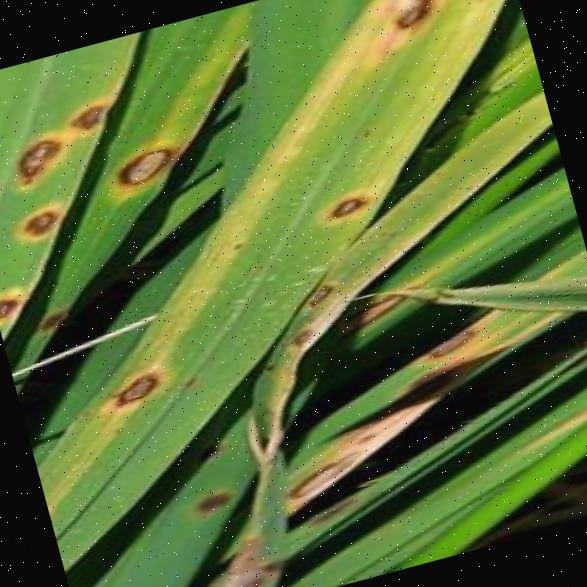Brown_Spot: (78, 120, 194, 222), (321, 0, 488, 61), (268, 436, 376, 507), (0, 113, 83, 202), (296, 166, 391, 240), (89, 350, 179, 423), (0, 181, 79, 263), (44, 77, 127, 150), (408, 311, 490, 375), (166, 472, 248, 528), (0, 266, 42, 343), (286, 264, 346, 315), (271, 311, 328, 360), (218, 234, 250, 260), (174, 366, 204, 393), (254, 356, 282, 380), (71, 402, 96, 425), (108, 417, 132, 439), (352, 117, 374, 140)
